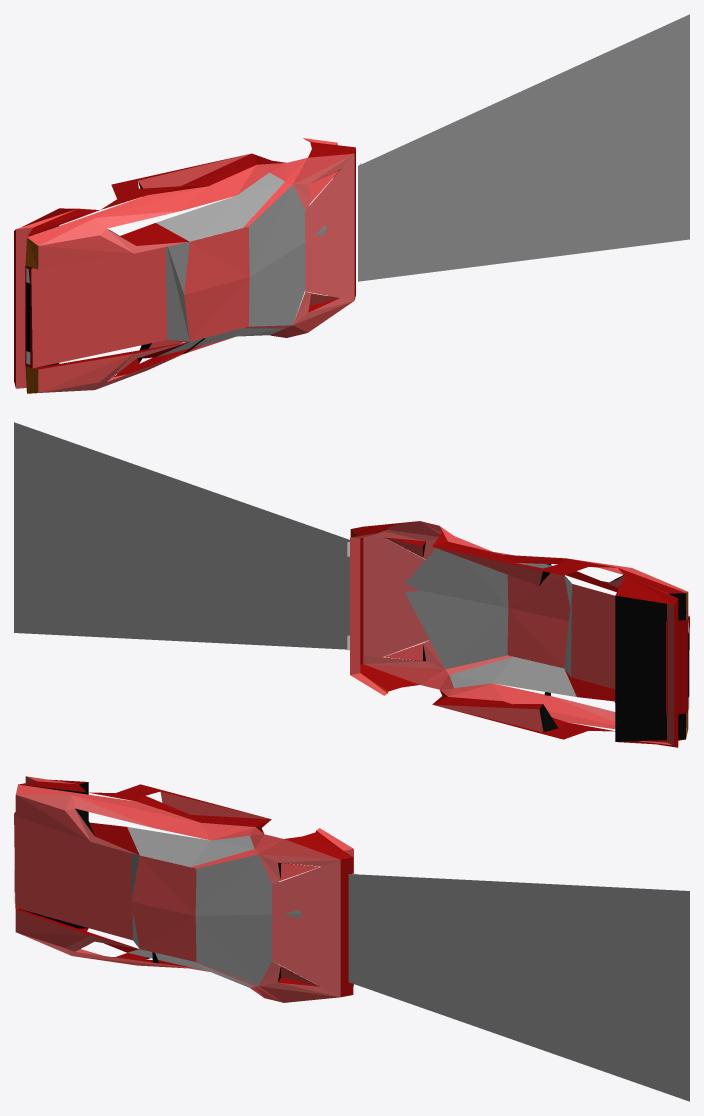
The model's file is cars_1.obj.
3 renders of one model, top to bottom at view 1: azimuth 30°, elevation 25°; view 2: azimuth 150°, elevation 25°; view 3: azimuth 330°, elevation 25°, orthographic. The views are drawn at different scales.
Parts seen in each view (by area): view 1: car2; view 2: car2; view 3: car2.
Part boxes in pixels (x1,y1,x2,y2): car2: (14,14,689,393); car2: (14,422,689,747); car2: (14,776,689,1101).
Bounding box in the file's own units: 0.463 × 0.144 × 0.053.
